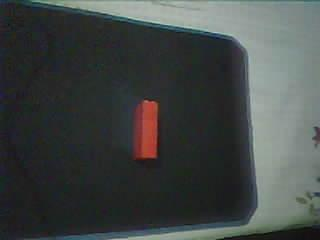lego: (133, 100, 159, 160)
